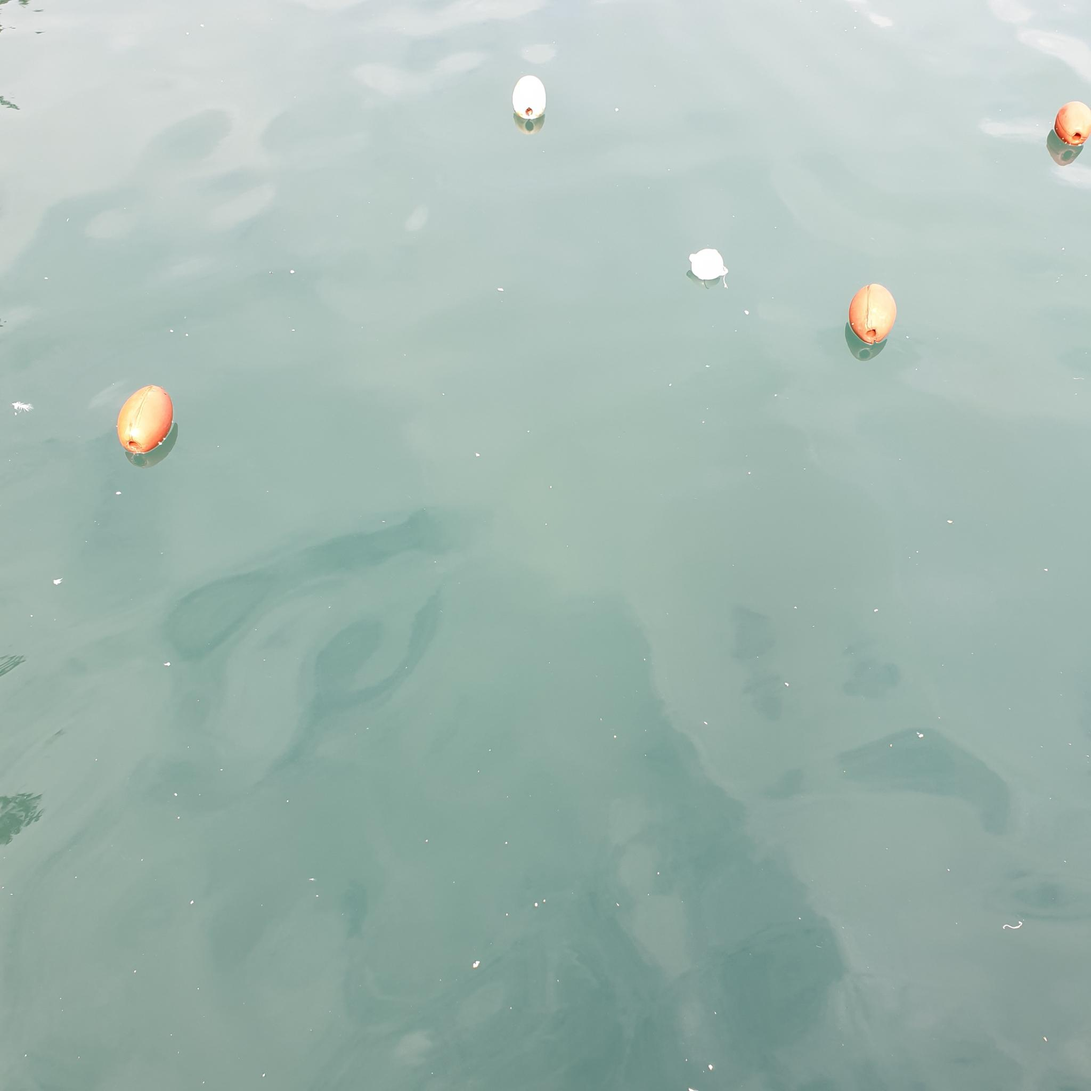sampah_terapung: (118, 386, 175, 454), (850, 284, 898, 345), (1055, 102, 1091, 147), (513, 76, 547, 120), (689, 248, 729, 281), (723, 275, 729, 290)
